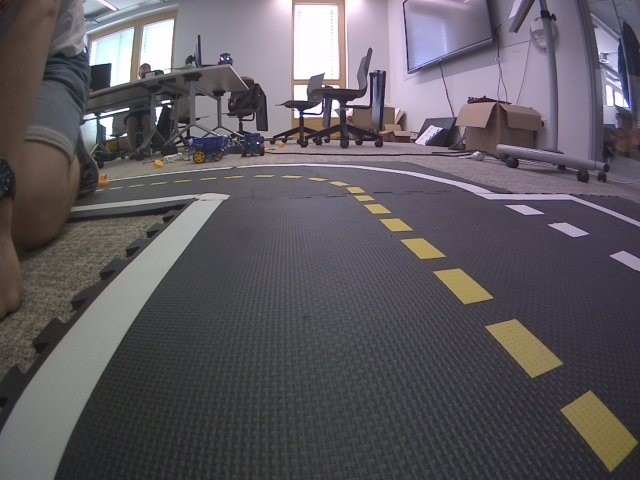Bot: (191, 136, 228, 164), (240, 134, 265, 158), (217, 52, 234, 66)
freeSpot: (478, 191, 640, 274)
